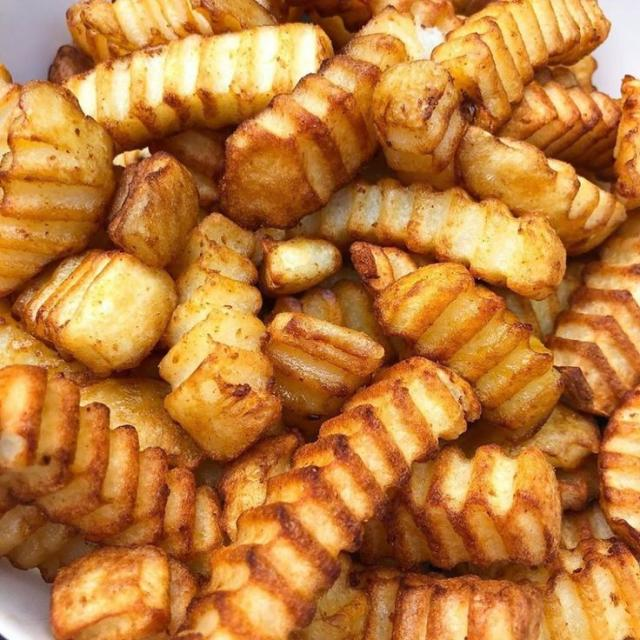potato fries: (178, 357, 478, 639), (222, 10, 412, 229), (66, 24, 332, 149), (289, 178, 565, 298), (375, 263, 561, 434), (159, 216, 280, 461), (0, 82, 114, 294), (385, 444, 561, 569), (456, 126, 625, 254), (14, 250, 177, 375), (431, 0, 578, 130), (549, 221, 639, 416), (265, 311, 384, 437), (50, 545, 197, 639), (504, 538, 639, 639), (67, 0, 276, 62), (357, 569, 542, 639), (498, 68, 619, 171), (374, 61, 471, 188), (82, 377, 203, 469), (107, 152, 198, 266), (0, 365, 78, 497), (271, 279, 394, 360), (458, 403, 599, 469), (220, 431, 301, 540), (37, 404, 110, 521), (0, 299, 95, 381), (71, 426, 138, 540), (0, 505, 90, 581), (599, 385, 639, 553), (150, 130, 231, 210), (292, 554, 368, 639), (103, 447, 168, 543), (260, 237, 341, 295), (351, 243, 417, 295), (186, 486, 223, 574), (159, 468, 195, 557), (0, 506, 46, 556), (557, 456, 597, 510), (48, 45, 92, 83), (578, 0, 610, 52)
